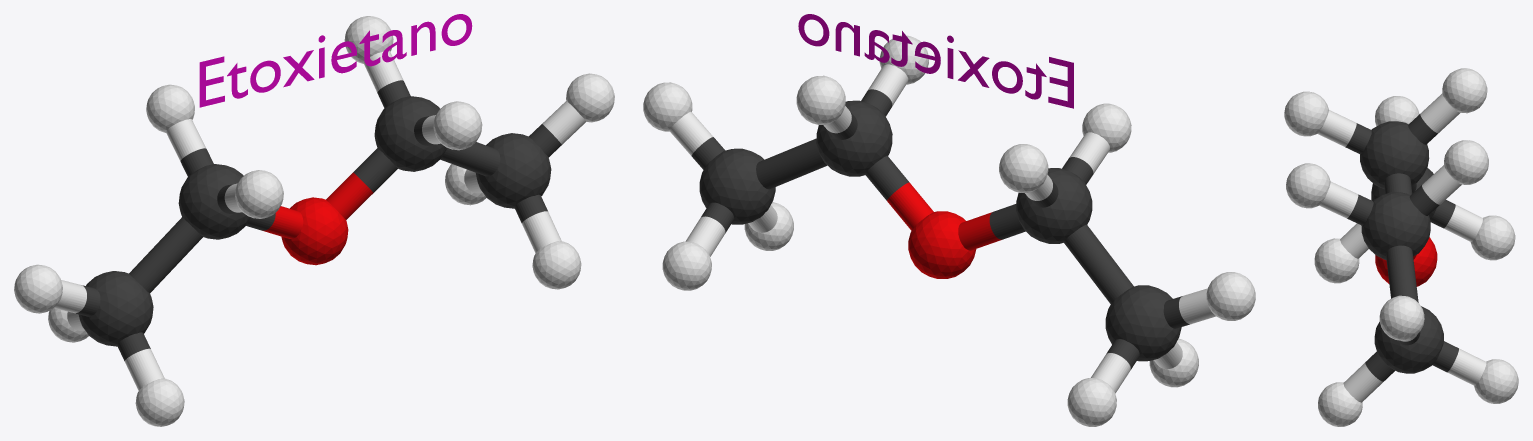
The model's file is etoxietano.glb.
The picture shows the model from 3 angles, left to right: view 1: azimuth 30°, elevation 25°; view 2: azimuth 150°, elevation 25°; view 3: azimuth 270°, elevation 25°; orthographic projection. The views are drawn at different scales.
Visible parts, largest first — view 1: Shape_IndexedFaceSet.039, Shape_IndexedFaceSet.033, Shape_IndexedFaceSet.051, Text; view 2: Shape_IndexedFaceSet.039, Shape_IndexedFaceSet.033, Shape_IndexedFaceSet.051, Text; view 3: Shape_IndexedFaceSet.033, Shape_IndexedFaceSet.039, Shape_IndexedFaceSet.051.
Boxes of the visible parts, x1,y1,x2,y2 form: Shape_IndexedFaceSet.039: (76, 80, 561, 360); Shape_IndexedFaceSet.033: (14, 16, 614, 426); Shape_IndexedFaceSet.051: (262, 172, 373, 265); Text: (199, 14, 472, 107); Shape_IndexedFaceSet.039: (691, 89, 1189, 369); Shape_IndexedFaceSet.033: (643, 35, 1255, 426); Shape_IndexedFaceSet.051: (887, 182, 1001, 278); Text: (798, 14, 1073, 108); Shape_IndexedFaceSet.033: (1284, 68, 1518, 426); Shape_IndexedFaceSet.039: (1345, 114, 1458, 381); Shape_IndexedFaceSet.051: (1375, 237, 1437, 286).
Size of the model in its own units: 45.71 by 23.67 by 16.82.
